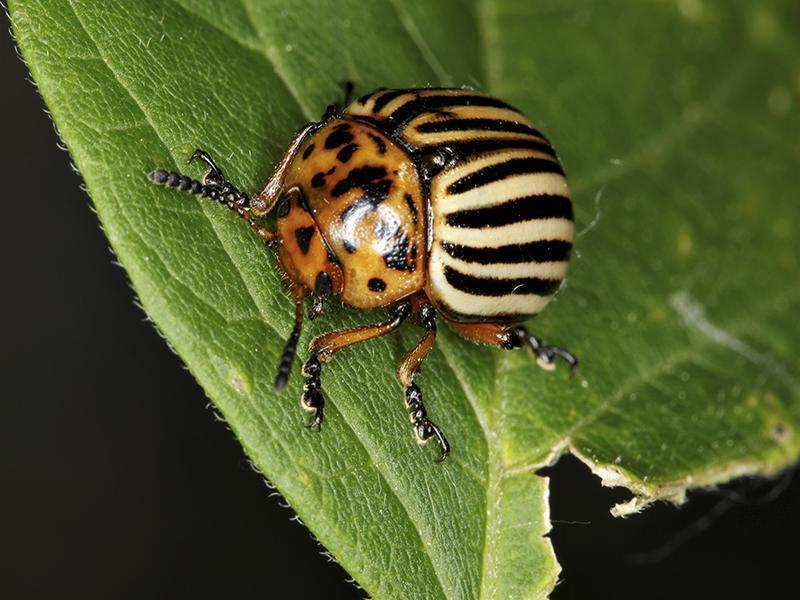hrosc: (253, 58, 581, 447)
